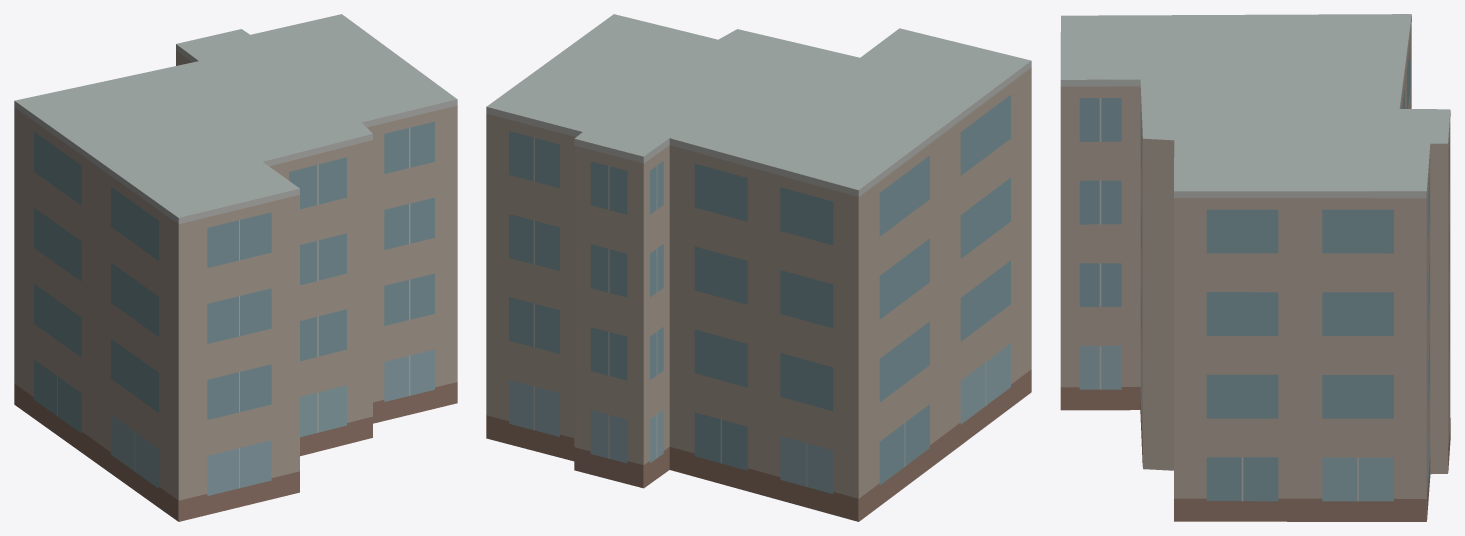
Rendered from survey-upis-32913495.glb.
The picture shows the model from 3 angles, left to right: view 1: azimuth 30°, elevation 25°; view 2: azimuth 150°, elevation 25°; view 3: azimuth 270°, elevation 25°; orthographic projection. The views are drawn at different scales.
Parts seen in each view (by area): view 1: survey-upis-32913495.tmp; view 2: survey-upis-32913495.tmp; view 3: survey-upis-32913495.tmp.
Boxes of the visible parts, x1,y1,x2,y2 form: survey-upis-32913495.tmp: (14,14,457,521); survey-upis-32913495.tmp: (486,14,1031,521); survey-upis-32913495.tmp: (1060,14,1450,521).
Size of the model in its own units: 13.71 by 11.9 by 12.73.
